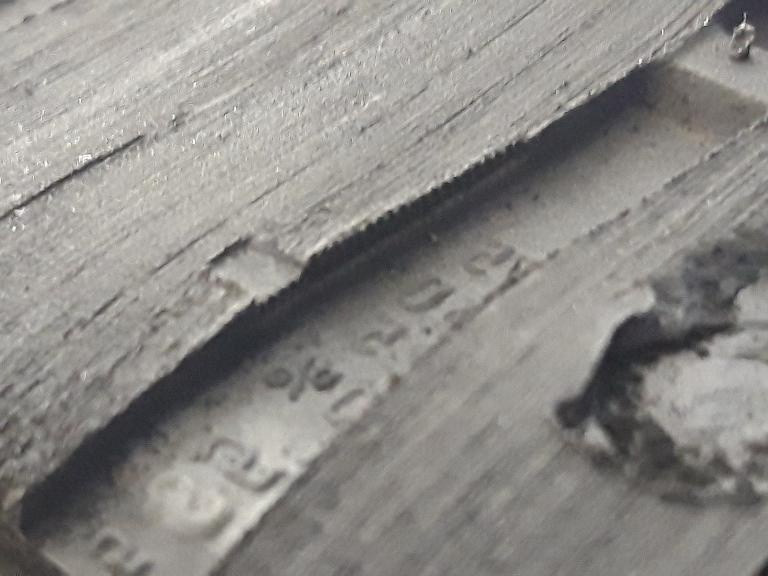temoin:0: (191, 208, 347, 335)
